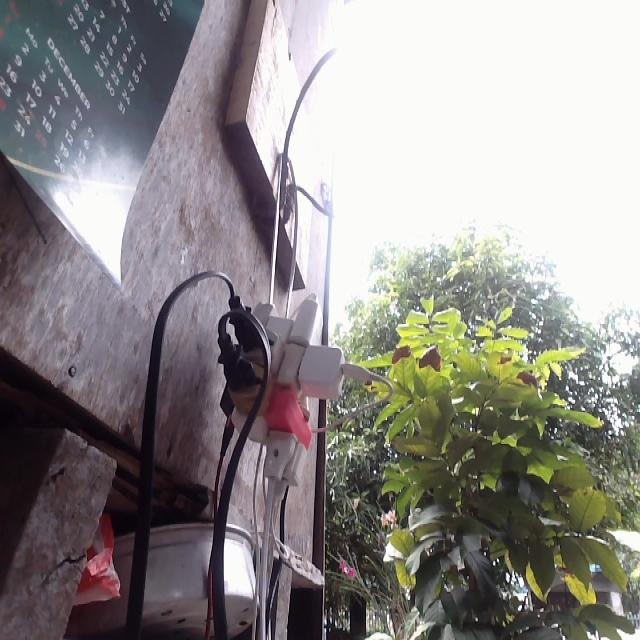-: (212, 288, 351, 489)
